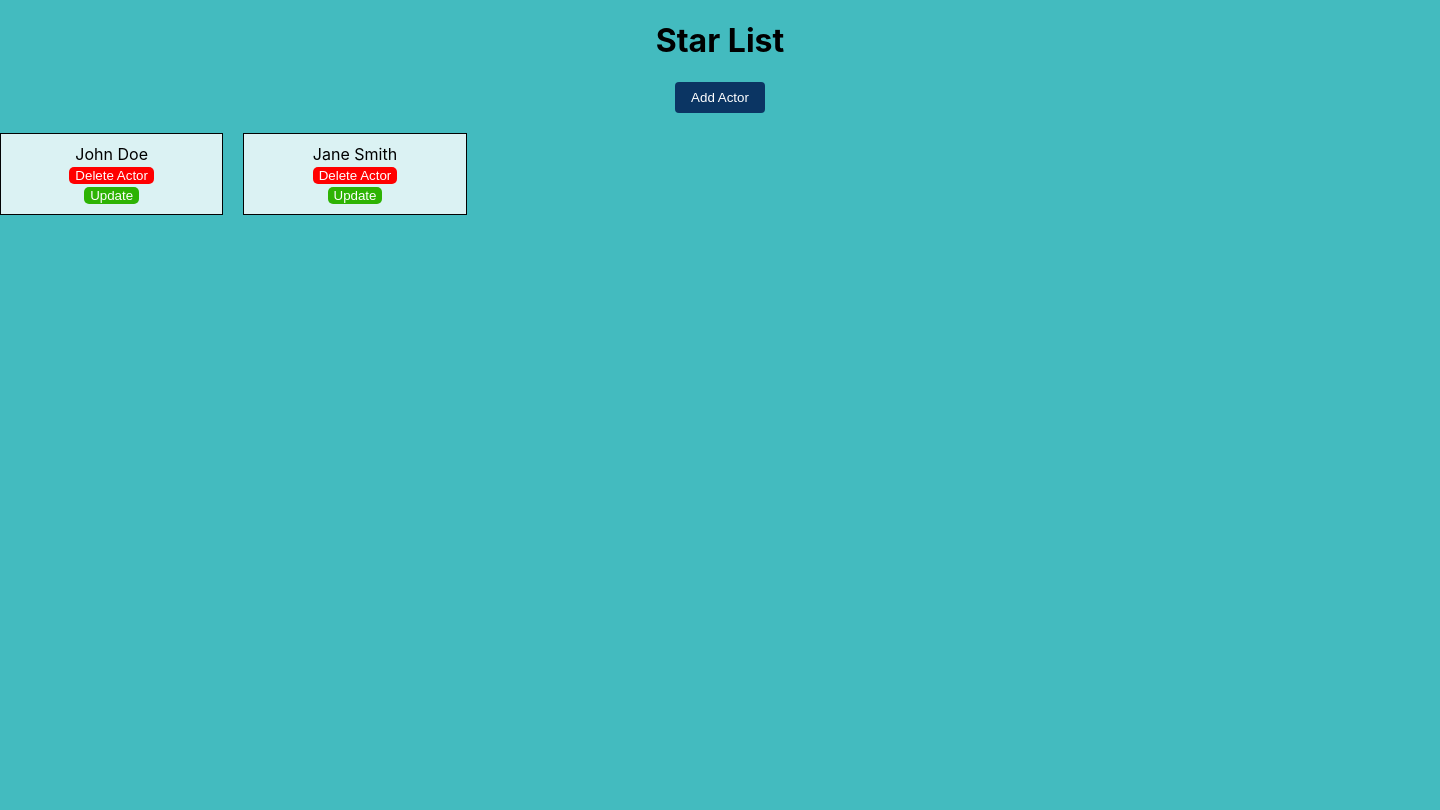
Test: ActorList Component Tests › handles deleting actor correctly
Click the button with test id "delete-button" below "John" at (112, 175), box top-left (69, 167), bottom-right (154, 184)
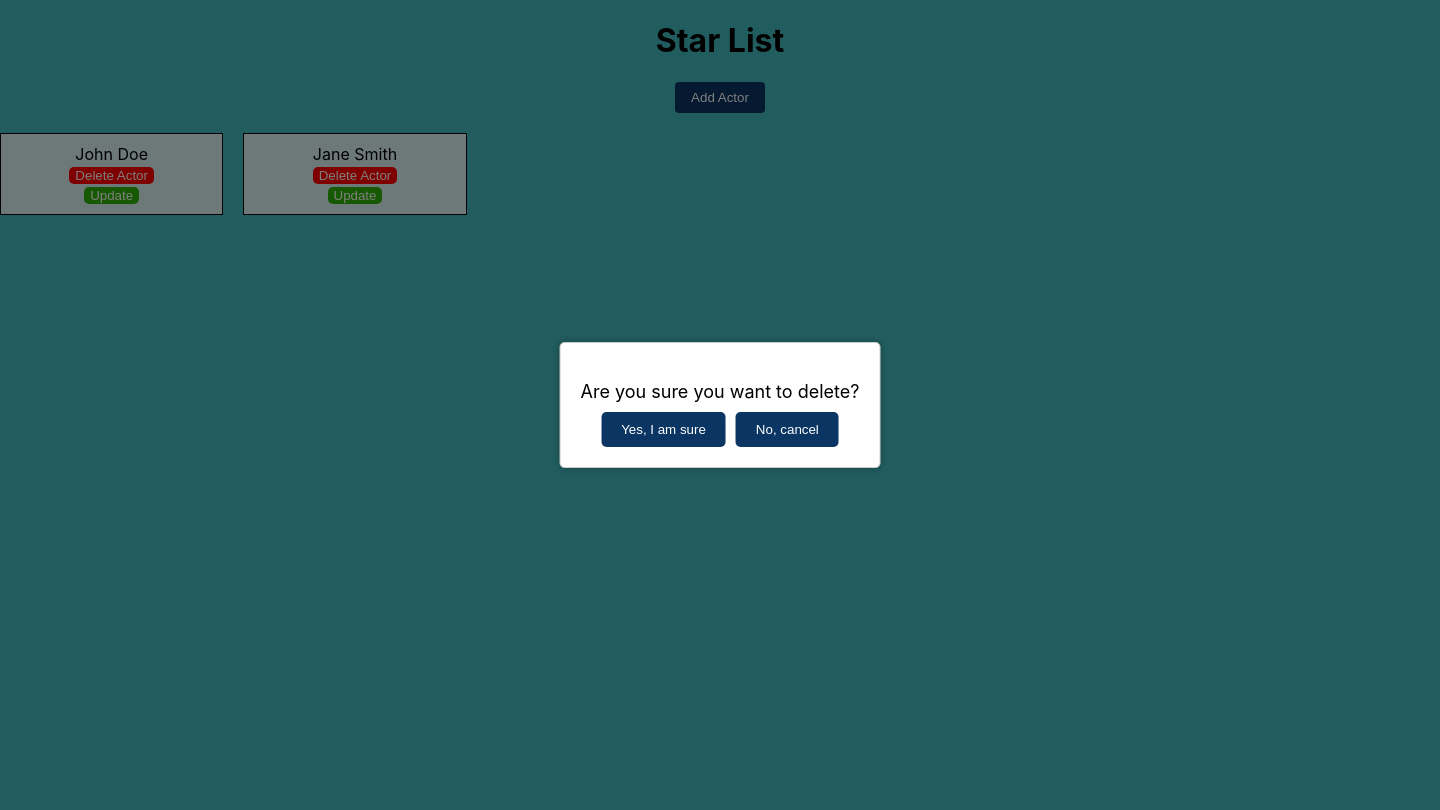
Click the button with test id "confirm-button" at (664, 430), box top-left (601, 412), bottom-right (726, 447)
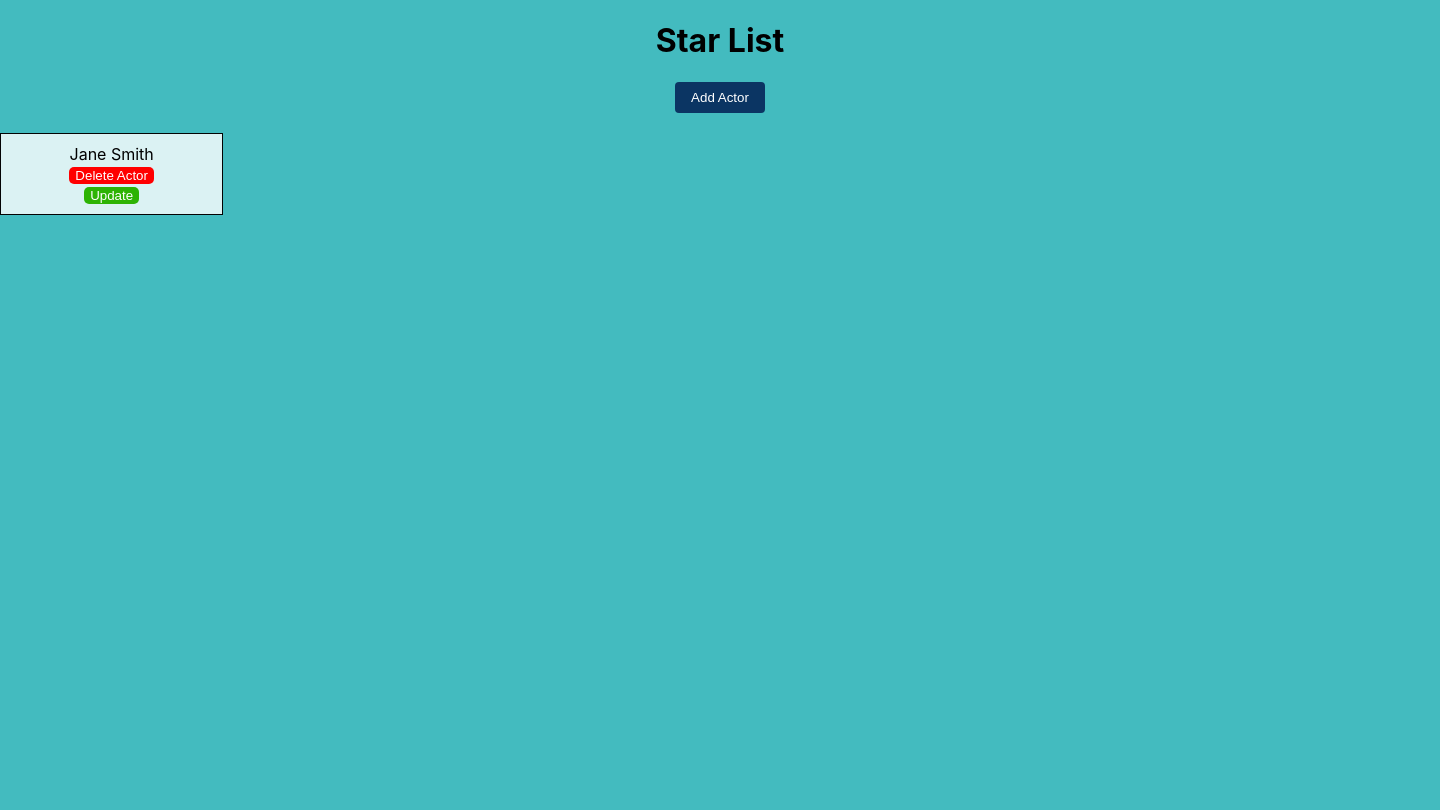
Expected: the list item "Jane Smith" is shown, top-left (0, 133), bottom-right (223, 215)
Expected: the list item "John Doe" is gone
